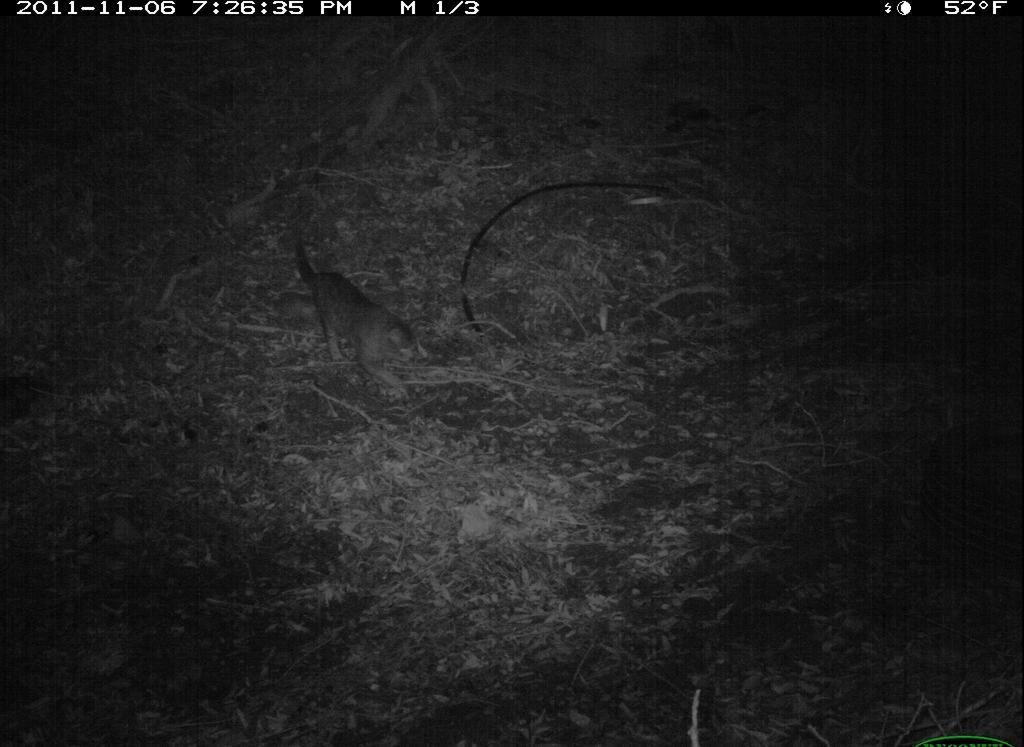cat: (282, 223, 422, 407)
